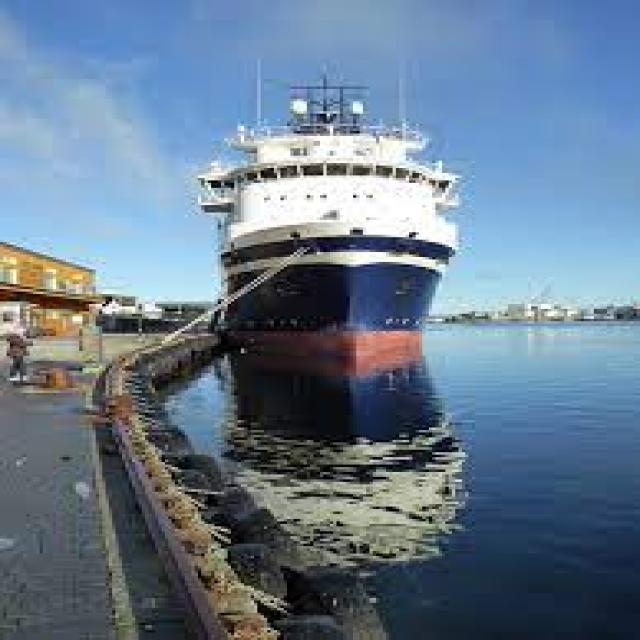passenger ship: (184, 69, 478, 327)
